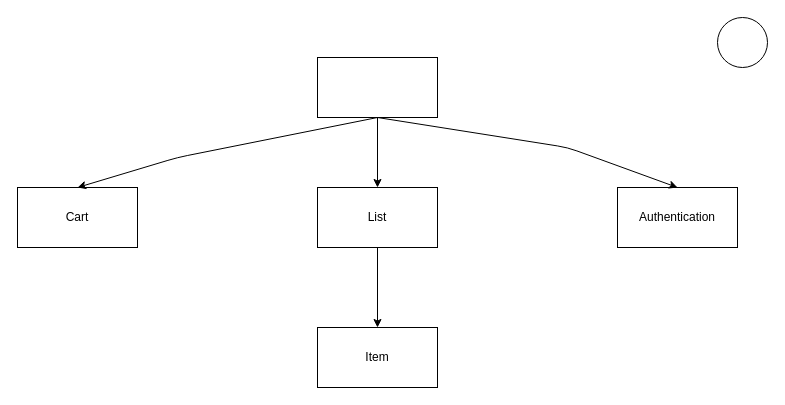
Some shapes in this 785 by 405 pixel diagram are drawn without their labels. Here are the shapes that lost their labels. From the top down, the centre of each, then its label:
At pixel 742 42: "Data List".
At pixel 377 87: "APP".
